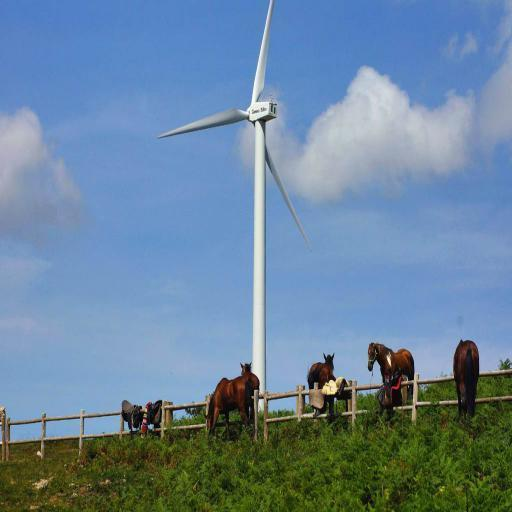horse: (202, 376, 250, 443), (366, 340, 414, 395), (452, 340, 480, 415), (306, 350, 334, 414), (241, 362, 259, 422)
